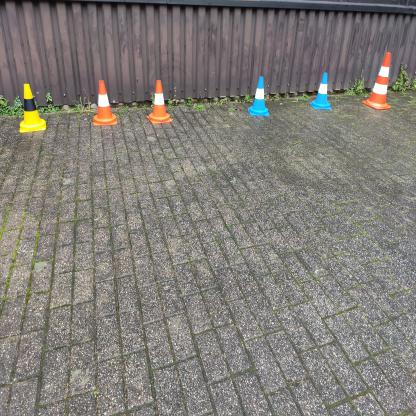Cones_big: (362, 45, 397, 119)
Cones_small_blue: (239, 69, 276, 124), (310, 71, 338, 113)
Cones_small_orange: (87, 76, 123, 132), (145, 76, 178, 132)
Cones_small_yellow: (13, 79, 52, 141)
